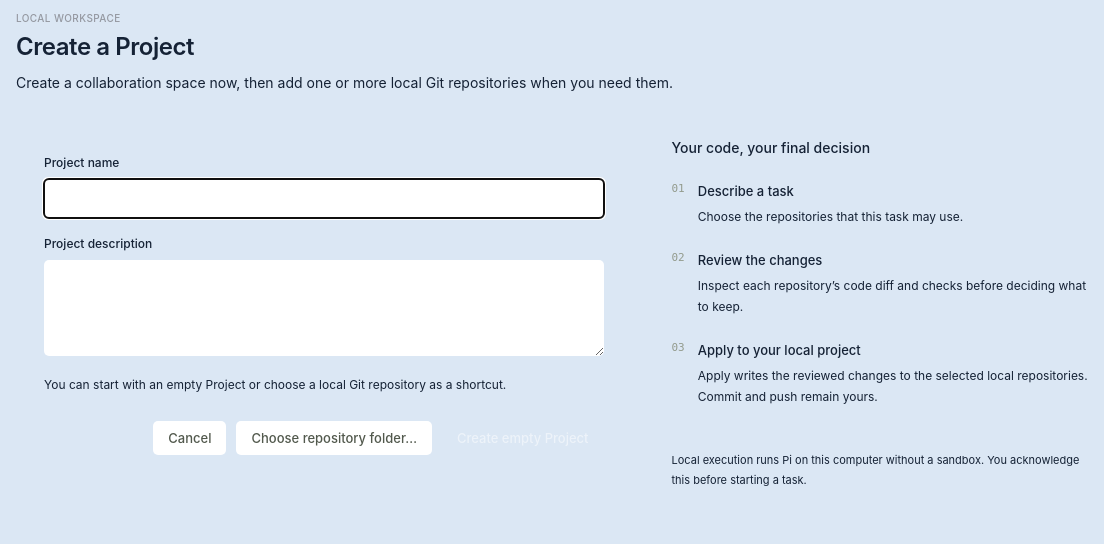
Test: AddProject › reports chooser failures and remains usable
Click the button "Choose repository folder…": (334, 438) [236,421,432,455]
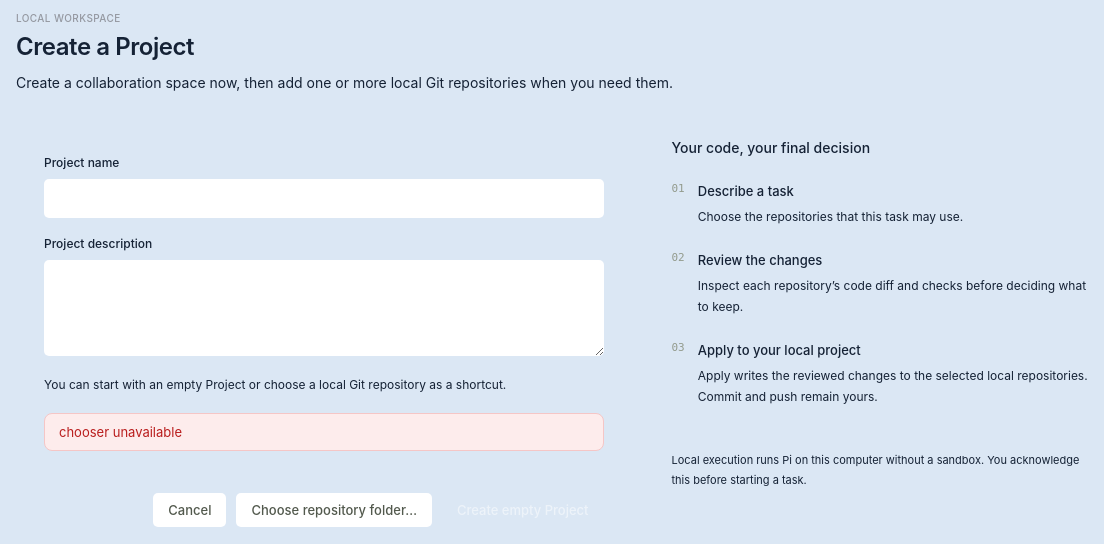
Check: the button "Choose repository folder…" is enabled, box [236,493,432,527]
Check: the message reads "chooser unavailable", box [59,424,182,440]
